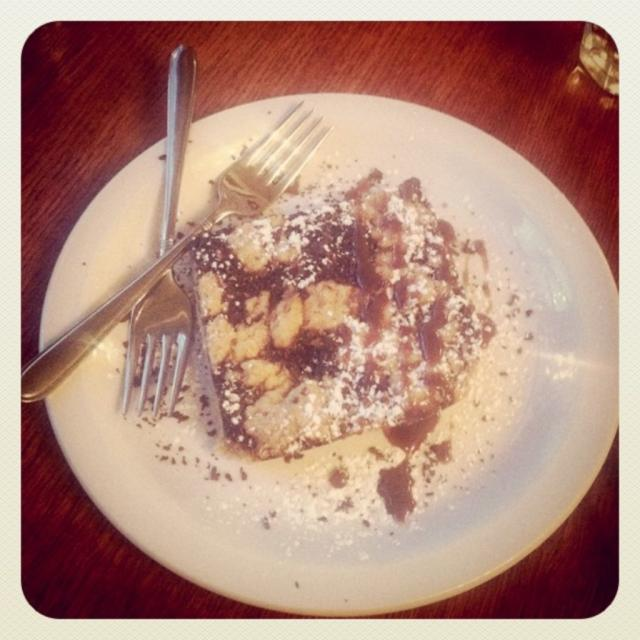non-organic waste: (30, 84, 620, 614)
